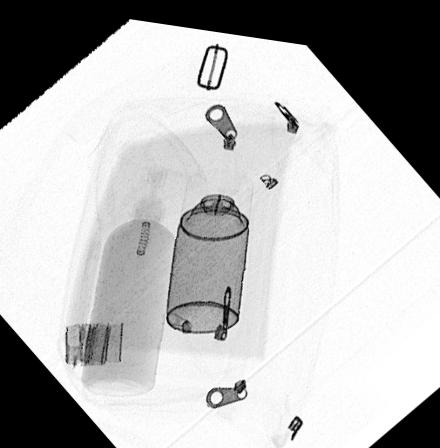Sprayer: (163, 159, 252, 328)
